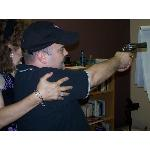Pistol: (121, 42, 147, 58)
